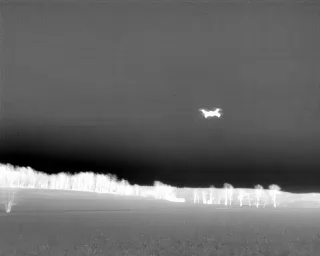DRONE: (196, 103, 227, 125)
